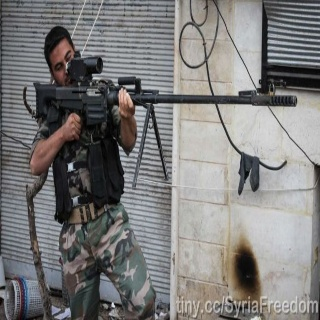rifle: (33, 55, 302, 131)
